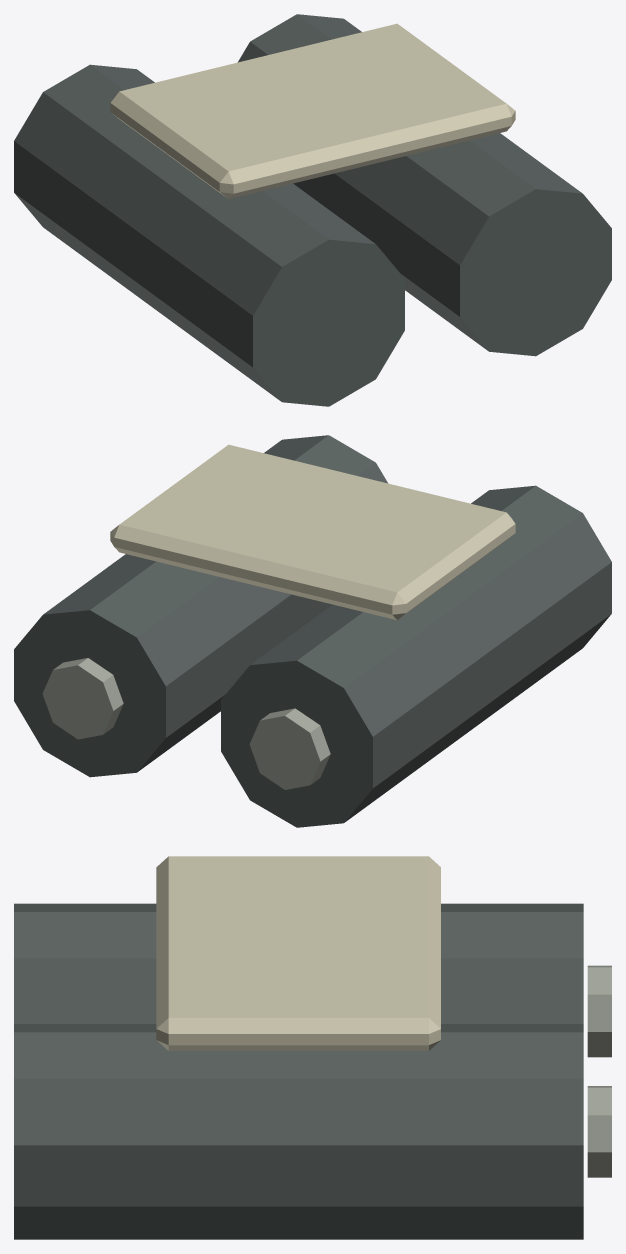
Rendered from battery.glb.
3 renders of one model, top to bottom at view 1: azimuth 30°, elevation 25°; view 2: azimuth 150°, elevation 25°; view 3: azimuth 270°, elevation 25°, orthographic. The views are drawn at different scales.
Parts seen in each view (by area): view 1: cell, cell.001, wrap; view 2: cell, wrap, cell.001, terminal, terminal.001; view 3: cell.001, wrap, cell, terminal, terminal.001.
Boxes of the visible parts, x1,y1,x2,y2 form: cell: (14,64,404,406); cell.001: (237,14,611,356); wrap: (110,23,515,199); cell: (221,485,611,827); wrap: (110,444,515,620); cell.001: (14,435,388,777); terminal: (249,708,330,789); terminal.001: (42,658,123,739); cell.001: (14,1024,583,1239); wrap: (156,856,440,1050); cell: (14,903,583,1023); terminal: (587,965,611,1057); terminal.001: (587,1086,611,1177).
Size of the model in its own units: 0.1214 by 0.0635 by 0.147.
